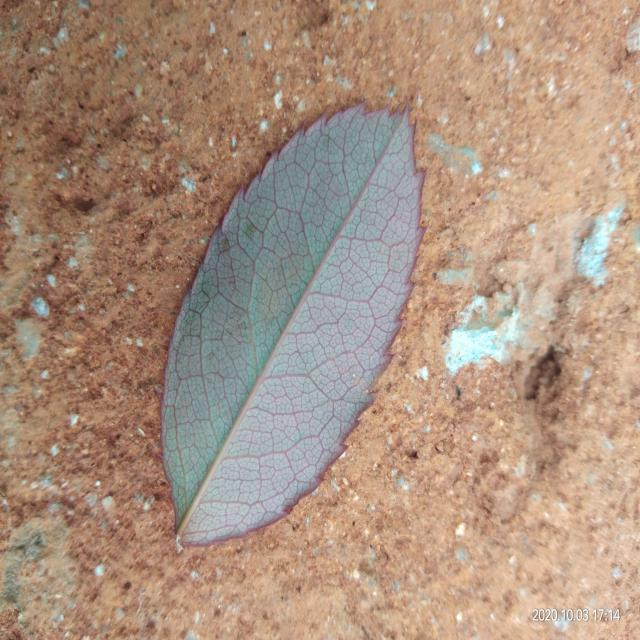rose: (161, 103, 424, 545)
